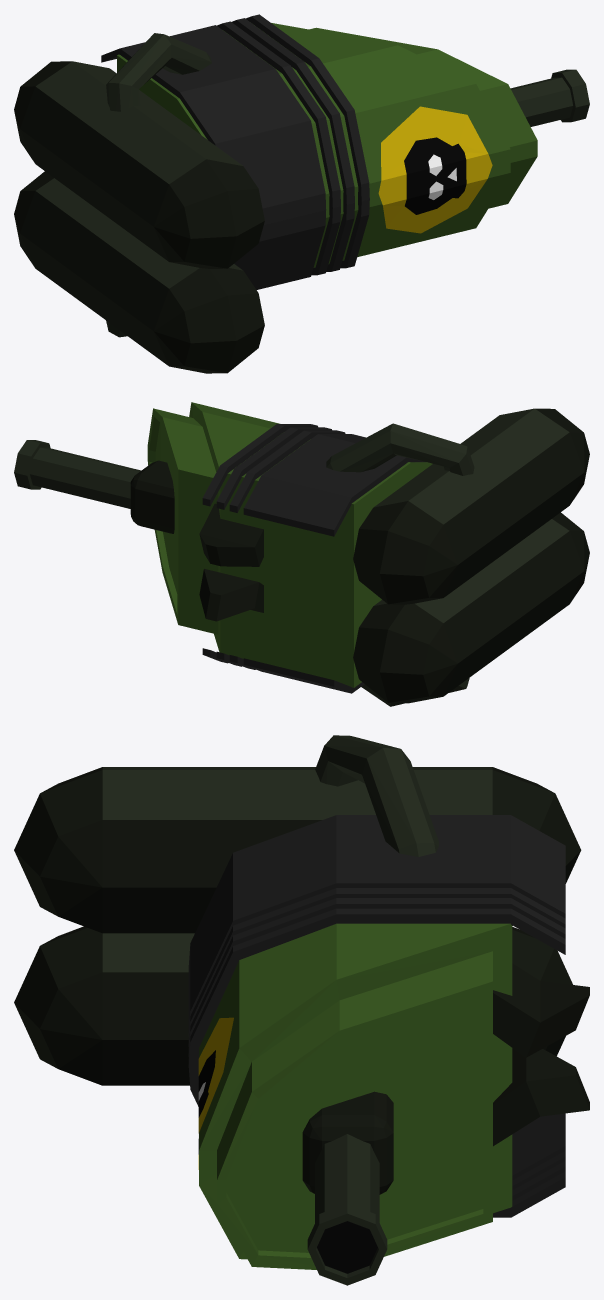
The model's file is toxic2_head.obj.
3 renders of one model, top to bottom at view 1: azimuth 30°, elevation 25°; view 2: azimuth 150°, elevation 25°; view 3: azimuth 270°, elevation 25°, orthographic. The views are drawn at different scales.
Visible parts, largest first — view 1: Cylinder.001; view 2: Cylinder.001; view 3: Cylinder.001.
Boxes of the visible parts, <box> form: Cylinder.001: <box>14,14,589,373</box>; Cylinder.001: <box>14,402,589,706</box>; Cylinder.001: <box>14,735,589,1285</box>.
Bounding box in the file's own units: 2.09 × 1.17 × 1.41.
